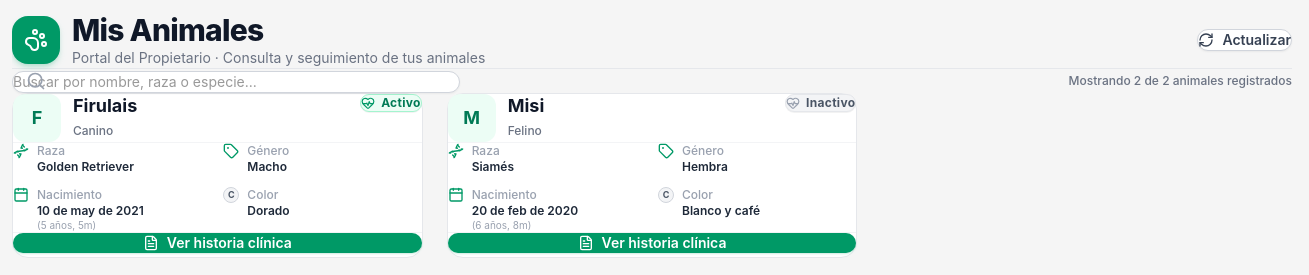
Test case: MyAnimalsView Component Tests › debería filtrar animales al escribir en la barra de búsqueda
Expected: the heading "Firulais" is shown, [73,95,137,117]
Type "Misi" into the field with placeholder "Buscar por nombre, raza o especie...".
click(236, 82); type("Misi")  # box [12,71,460,93]
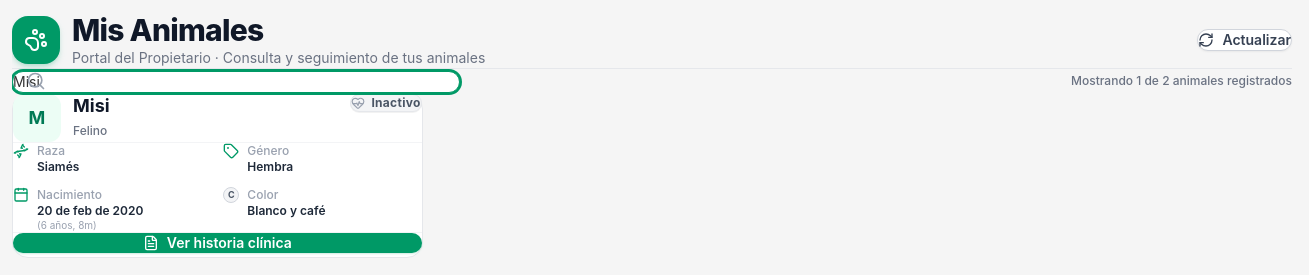
Expected: the heading "Misi" is shown, [73,95,110,117]
Expected: the heading "Firulais" is gone
